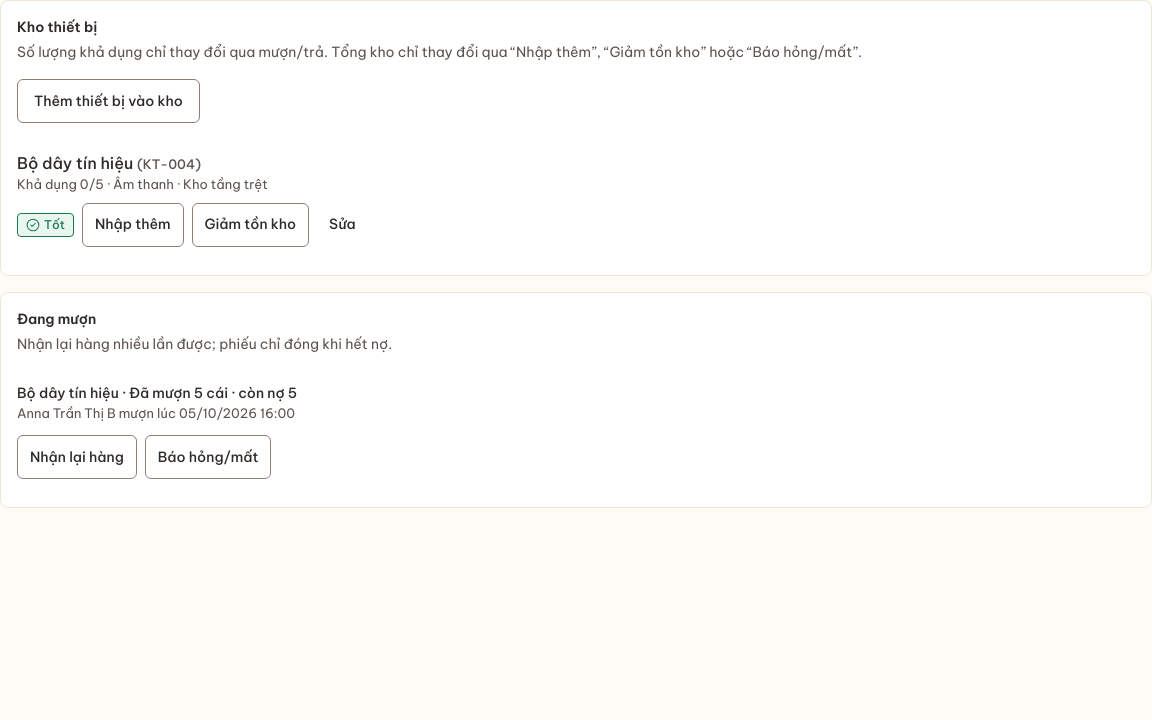
Test: Phiếu đang mượn — nhận lại hàng KHÔNG phải báo hỏng/mất (AC-M09-25) › phiếu còn nợ thì câu báo kết quả nói rõ còn nợ bao nhiêu (D-61)
Click the button "Nhận lại hàng". click: (77, 457)
box: x1=17 y1=435 x2=137 y2=479
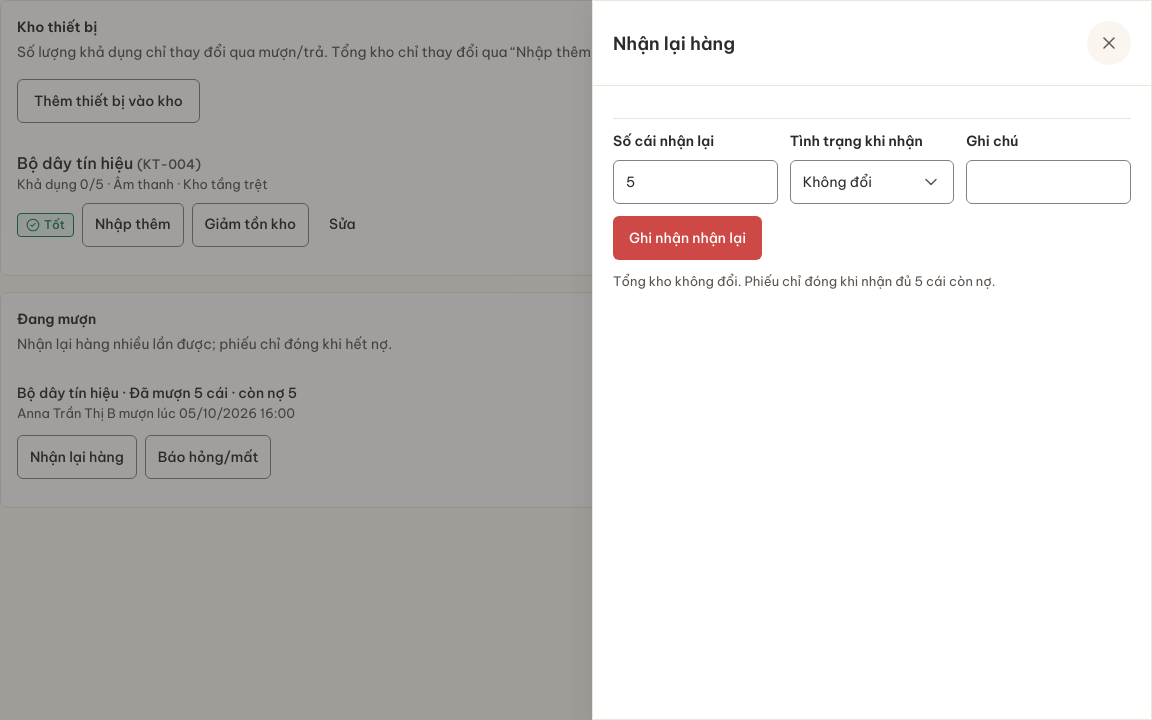
Replace the text in the number field labelled "Số cái nhận lại" with "3". click: (695, 182)
box: x1=613 y1=160 x2=778 y2=204
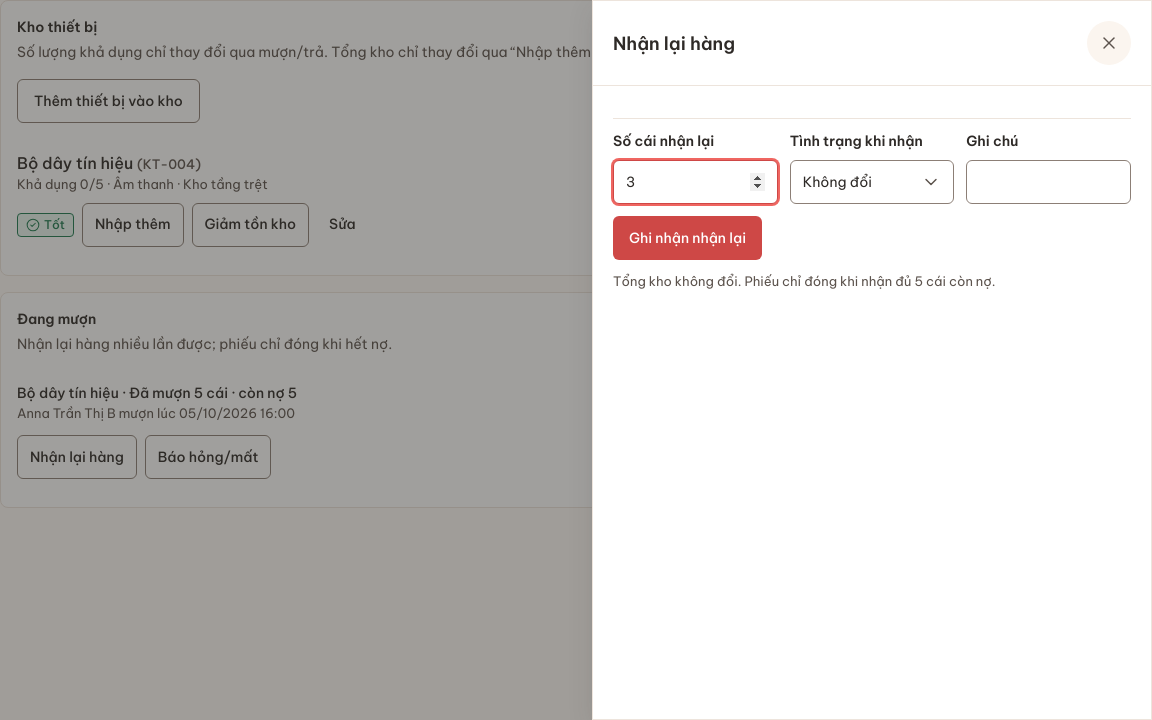
Click the button "Ghi nhận nhận lại". click: (688, 238)
box: x1=613 y1=216 x2=762 y2=260
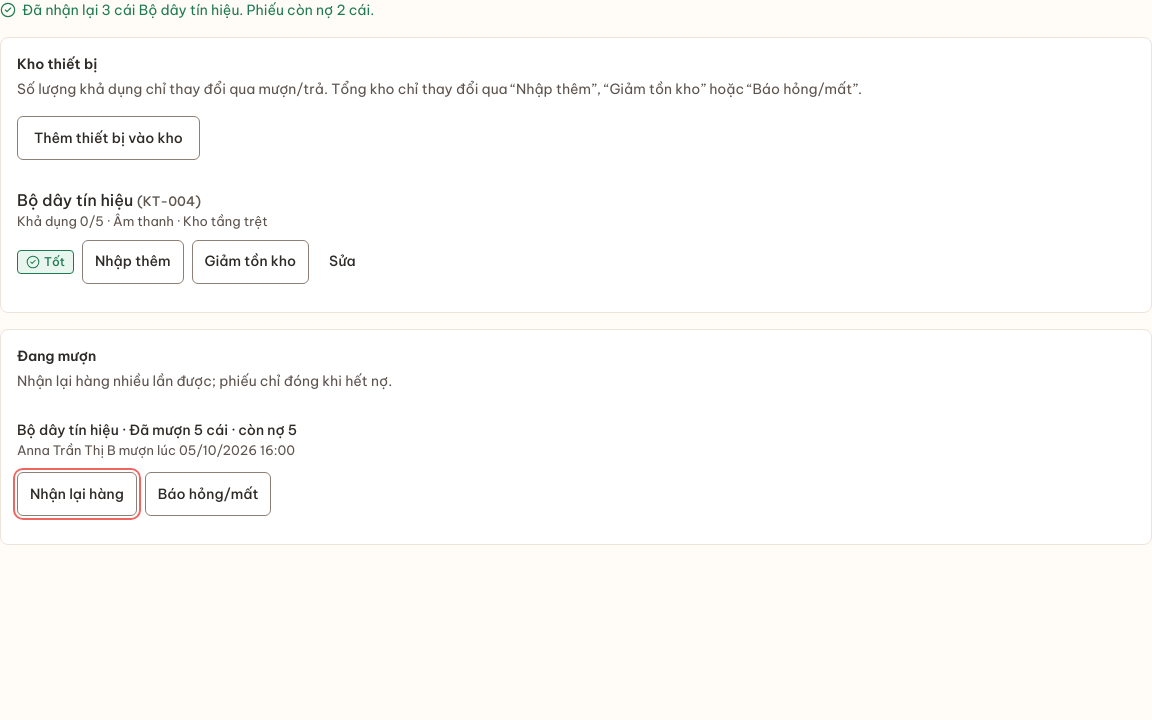
Check: the text "Đã nhận lại 3 cái Bộ dây tín hiệu. Phiếu còn nợ 2 cái." is shown, box x1=22 y1=0 x2=374 y2=21
